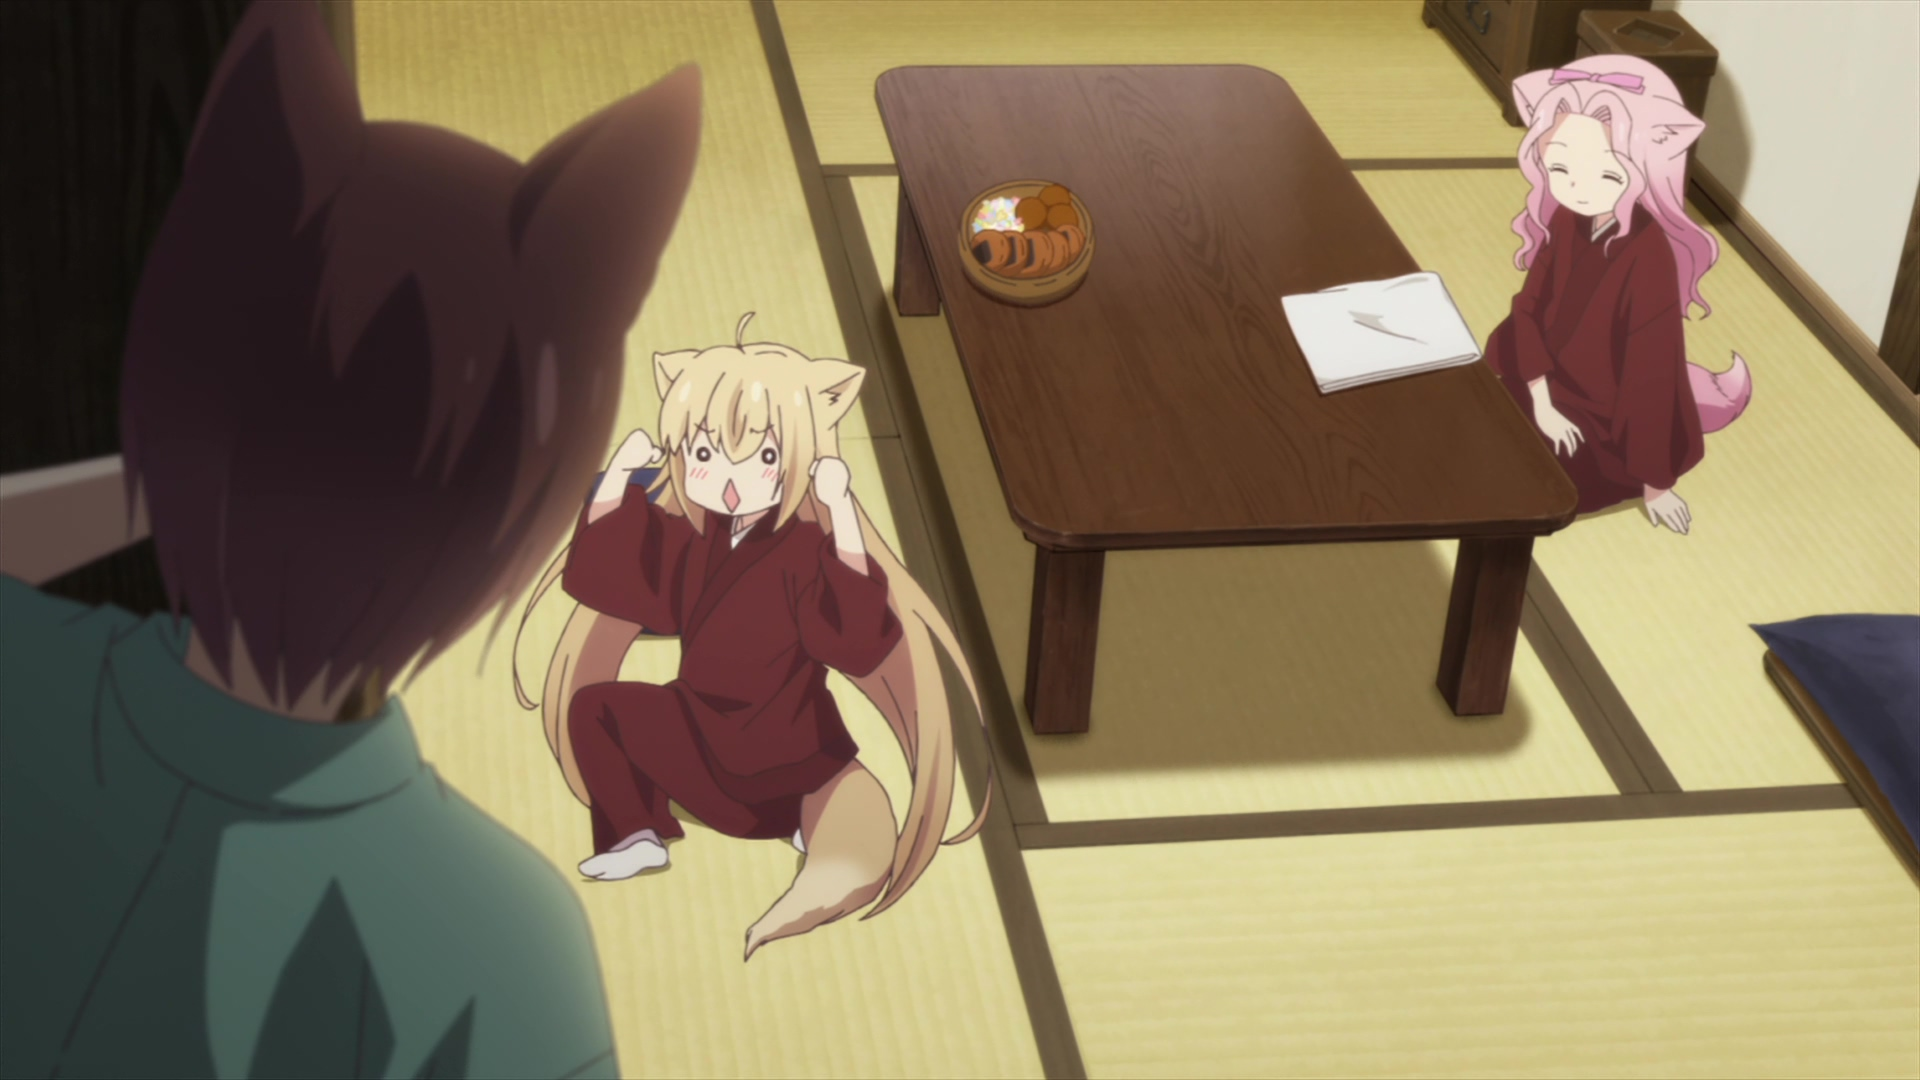枣: (1, 1, 705, 1080)
柚: (514, 311, 996, 964)
莲: (1482, 51, 1753, 537)
